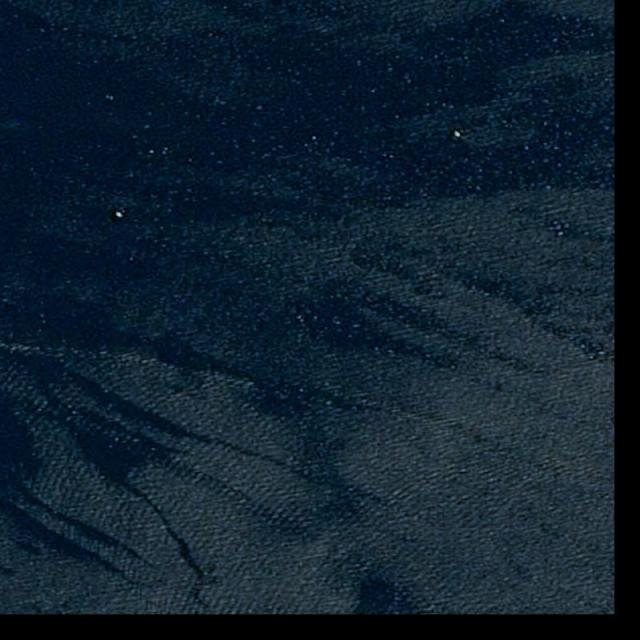ship: (114, 210, 124, 219), (454, 130, 461, 138)
